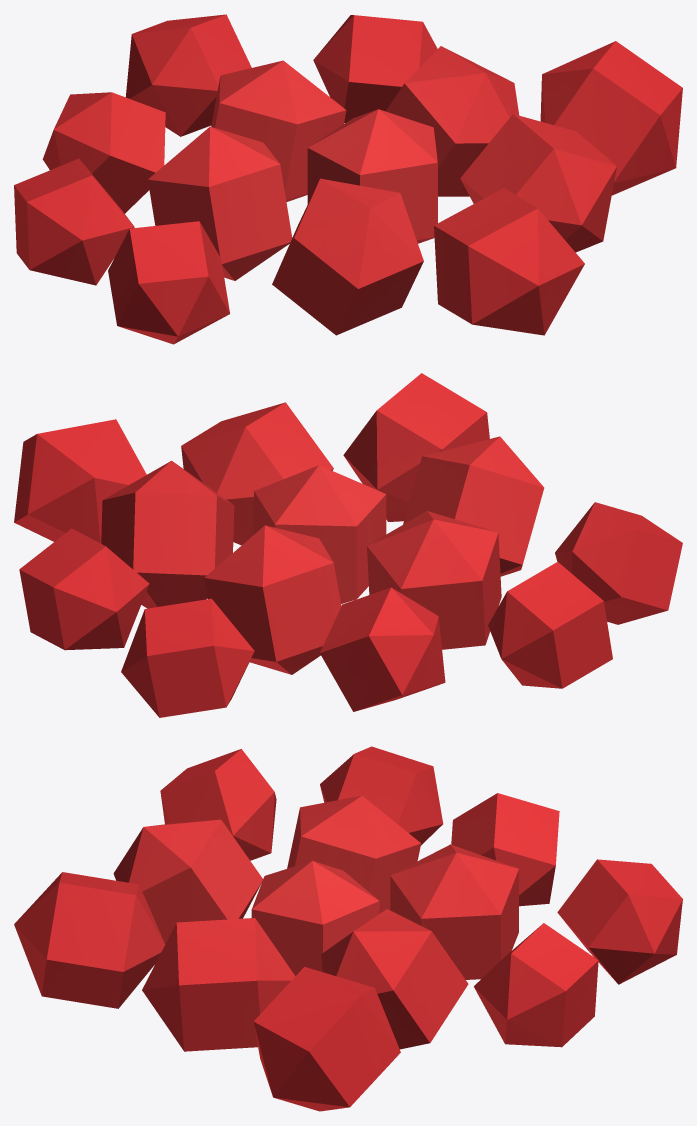
File: Pomegranate Piece.fbx
3 renders of one model, top to bottom at view 1: azimuth 30°, elevation 25°; view 2: azimuth 150°, elevation 25°; view 3: azimuth 270°, elevation 25°, orthographic. The views are drawn at different scales.
Parts seen in each view (by area): view 1: Pomegranate Piece.004, Pomegranate Piece.012, Pomegranate Piece.003, Pomegranate Piece.006, Pomegranate Piece.005, Pomegranate Piece.011, Pomegranate Piece.010, Pomegranate Piece.009, Pomegranate Piece.001, Pomegranate Piece.002, Pomegranate Piece, Pomegranate Piece.008 (+1 smaller); view 2: Pomegranate Piece, Pomegranate Piece.001, Pomegranate Piece.003, Pomegranate Piece.009, Pomegranate Piece.007, Pomegranate Piece.008, Pomegranate Piece.006, Pomegranate Piece.010, Pomegranate Piece.004, Pomegranate Piece.012, Pomegranate Piece.011, Pomegranate Piece.005 (+1 smaller); view 3: Pomegranate Piece.006, Pomegranate Piece.012, Pomegranate Piece.005, Pomegranate Piece, Pomegranate Piece.004, Pomegranate Piece.001, Pomegranate Piece.007, Pomegranate Piece.009, Pomegranate Piece.002, Pomegranate Piece.003, Pomegranate Piece.011, Pomegranate Piece.008 (+1 smaller).
Boxes of the visible parts, box(x1,y1,x2,y2) form: Pomegranate Piece.004: box(272, 178, 423, 335); Pomegranate Piece.012: box(434, 188, 584, 335); Pomegranate Piece.003: box(148, 126, 292, 280); Pomegranate Piece.006: box(540, 41, 682, 195); Pomegranate Piece.005: box(460, 114, 616, 252); Pomegranate Piece.011: box(108, 221, 229, 344); Pomegranate Piece.010: box(14, 158, 134, 285); Pomegranate Piece.009: box(126, 14, 251, 136); Pomegranate Piece.001: box(385, 46, 519, 196); Pomegranate Piece.002: box(307, 109, 437, 243); Pomegranate Piece: box(211, 60, 346, 201); Pomegranate Piece.008: box(42, 92, 165, 213); Pomegranate Piece: box(204, 525, 341, 674); Pomegranate Piece.001: box(101, 460, 234, 608); Pomegranate Piece.003: box(367, 511, 501, 649); Pomegranate Piece.009: box(121, 598, 254, 717); Pomegranate Piece.007: box(19, 528, 149, 650); Pomegranate Piece.008: box(320, 587, 445, 711); Pomegranate Piece.006: box(14, 419, 146, 543); Pomegranate Piece.010: box(488, 562, 612, 688); Pomegranate Piece.004: box(403, 436, 544, 576); Pomegranate Piece.012: box(343, 373, 489, 521); Pomegranate Piece.011: box(555, 502, 682, 624); Pomegranate Piece.005: box(181, 402, 333, 545); Pomegranate Piece.006: box(253, 967, 400, 1111); Pomegranate Piece.012: box(14, 872, 165, 1008); Pomegranate Piece.005: box(142, 918, 295, 1051); Pomegranate Piece: box(390, 844, 518, 979); Pomegranate Piece.004: box(113, 819, 262, 943); Pomegranate Piece.001: box(321, 909, 468, 1049); Pomegranate Piece.007: box(474, 923, 598, 1047); Pomegranate Piece.009: box(557, 859, 682, 984); Pomegranate Piece.002: box(251, 861, 379, 975); Pomegranate Piece.003: box(287, 795, 421, 913); Pomegranate Piece.011: box(160, 749, 276, 860); Pomegranate Piece.008: box(451, 793, 559, 906).
Size of the model in its own units: 13.13 by 2.97 by 12.66.
